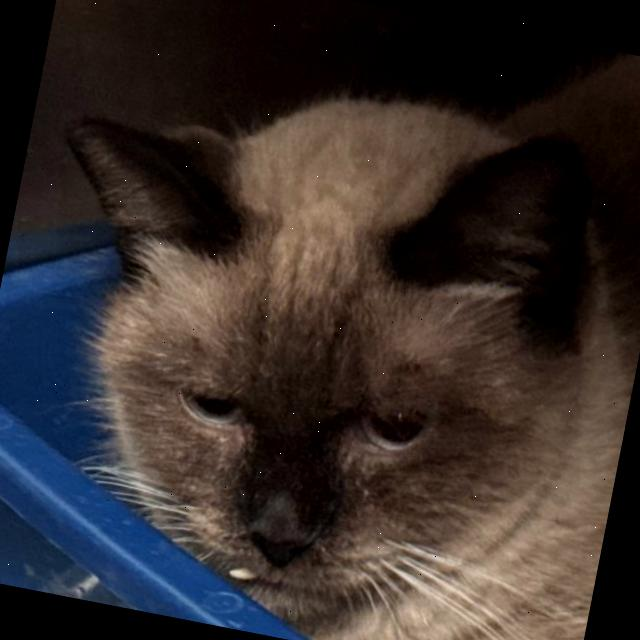siamese_cat: (0, 2, 640, 640)
